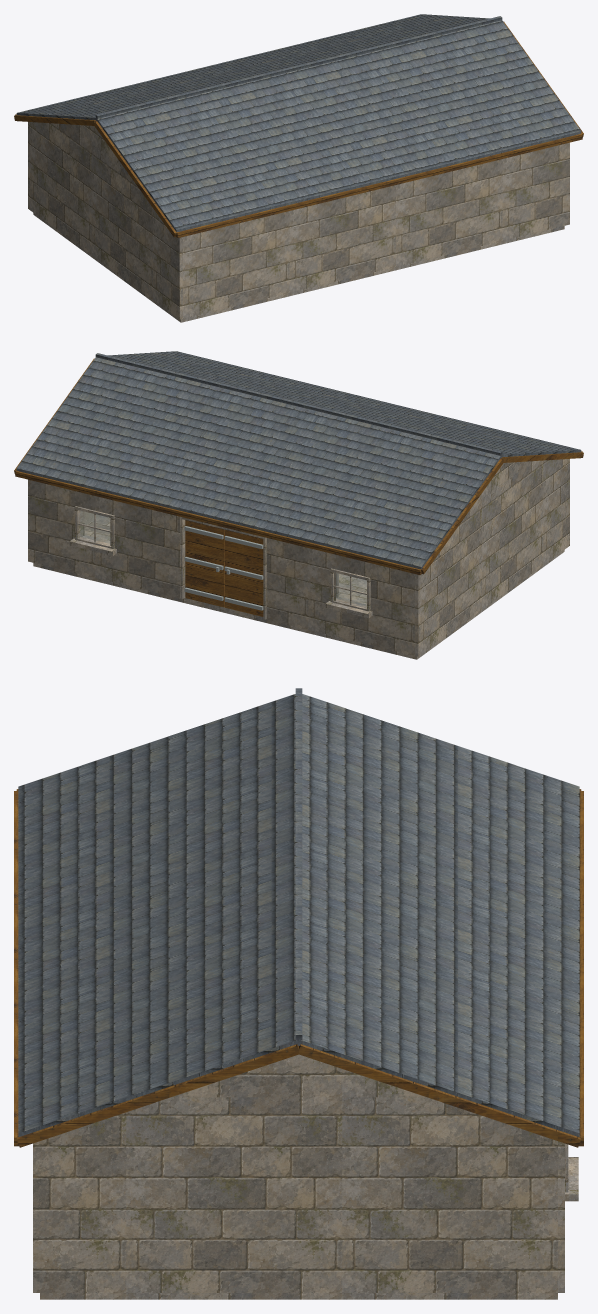
Rendered from castle-stone-store.gltf.
The picture shows the model from 3 angles, top to bottom: view 1: azimuth 30°, elevation 25°; view 2: azimuth 150°, elevation 25°; view 3: azimuth 270°, elevation 25°; orthographic projection. The views are drawn at different scales.
Parts seen in each view (by area): view 1: roof-L1-shingle, exterior-L0-stone, roof-trim-L1-trim, roof-trim-L1-shingle, gable-infill-L0-stone, floor-L0-stone, datum-band-L0-stone; view 2: roof-L1-shingle, exterior-L0-stone, door-L0-door (×2), roof-trim-L1-trim, floor-L0-stone, roof-trim-L1-shingle, gable-infill-L0-stone, facade-trim-L0-stone, glazing-L0-glass, door-L0-iron (×2), portal-trim-L0-stone, datum-band-L0-stone; view 3: roof-L1-shingle, exterior-L0-stone, gable-infill-L0-stone, roof-trim-L1-trim, datum-band-L0-stone, floor-L0-stone, roof-trim-L1-shingle.
Part boxes in pixels (x1,y1,x2,y2): roof-L1-shingle: (16, 14, 581, 232); exterior-L0-stone: (28, 122, 569, 319); roof-trim-L1-trim: (14, 21, 583, 237); roof-trim-L1-shingle: (95, 16, 502, 118); gable-infill-L0-stone: (40, 122, 148, 202); floor-L0-stone: (33, 213, 564, 322); datum-band-L0-stone: (32, 122, 156, 213); roof-L1-shingle: (16, 351, 581, 569); exterior-L0-stone: (28, 459, 569, 656); door-L0-door (×2): (185, 520, 263, 616); roof-trim-L1-trim: (14, 358, 583, 574); floor-L0-stone: (33, 515, 564, 659); roof-trim-L1-shingle: (95, 353, 502, 455); gable-infill-L0-stone: (449, 459, 557, 539); facade-trim-L0-stone: (69, 506, 372, 618); glazing-L0-glass: (80, 511, 366, 605); door-L0-iron (×2): (184, 526, 263, 610); portal-trim-L0-stone: (180, 517, 266, 619); datum-band-L0-stone: (441, 459, 565, 550); roof-L1-shingle: (18, 694, 579, 1137); exterior-L0-stone: (33, 1136, 564, 1292); gable-infill-L0-stone: (82, 1054, 515, 1127); roof-trim-L1-trim: (14, 789, 583, 1147); datum-band-L0-stone: (54, 1127, 543, 1136); floor-L0-stone: (40, 1293, 557, 1299); roof-trim-L1-shingle: (295, 688, 302, 1039).
Bounding box in the file's own units: 9.6 × 3.49 × 6.6.
Materials: 8 (6 with a texture image).
